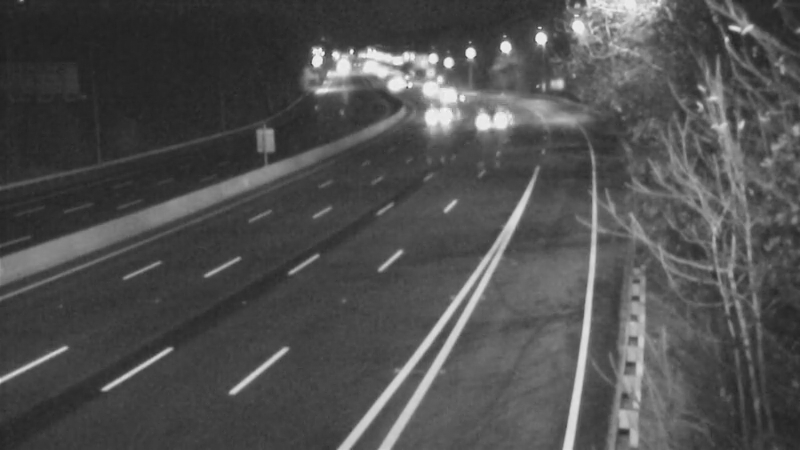vehicle: (404, 61, 454, 111), (423, 66, 473, 116), (432, 77, 482, 127), (404, 88, 454, 138), (466, 95, 516, 145)
